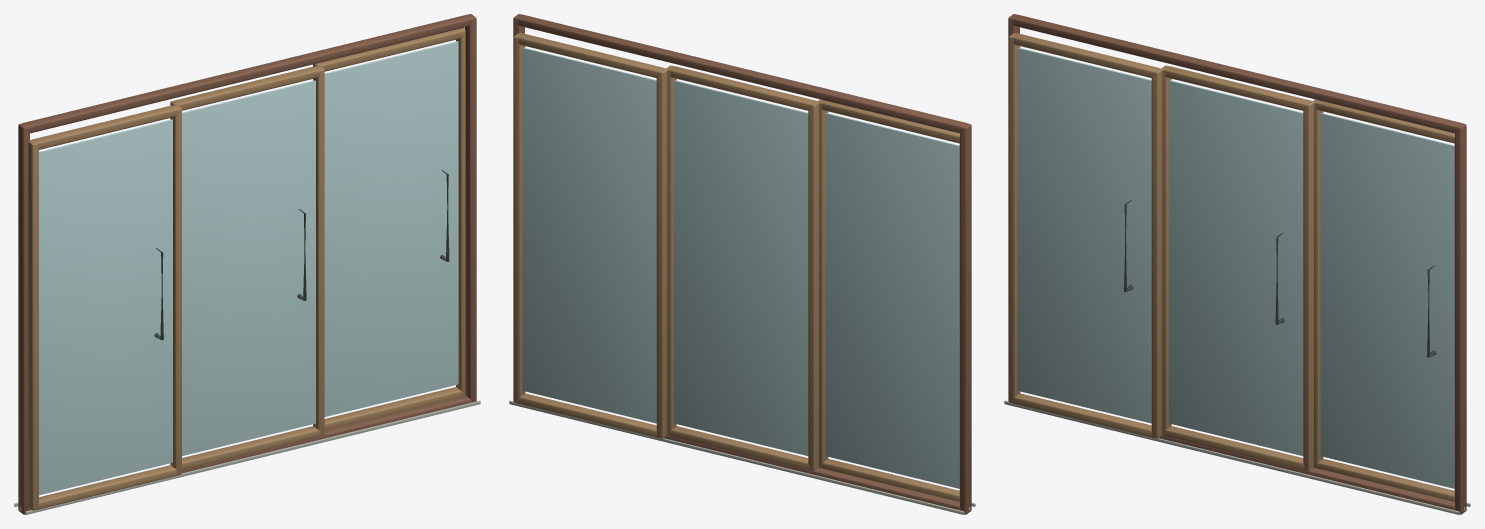
File: door-patio-multislide.glb
3 renders of one model, left to right at view 1: azimuth 30°, elevation 25°; view 2: azimuth 150°, elevation 25°; view 3: azimuth 330°, elevation 25°, orthographic.
Visible parts, largest first — view 1: sliding_leaf_0, sliding_leaf_1, sliding_leaf_2, door-patio-multislide; view 2: sliding_leaf_2, sliding_leaf_1, sliding_leaf_0, door-patio-multislide; view 3: sliding_leaf_0, sliding_leaf_1, sliding_leaf_2, door-patio-multislide.
Part boxes in pixels (x1,y1,x2,y2): sliding_leaf_0: (28, 104, 181, 510); sliding_leaf_1: (170, 65, 324, 469); sliding_leaf_2: (313, 27, 465, 429); door-patio-multislide: (14, 14, 480, 514); sliding_leaf_2: (513, 33, 667, 438); sliding_leaf_1: (666, 65, 818, 470); sliding_leaf_0: (818, 99, 959, 501); door-patio-multislide: (509, 14, 975, 514); sliding_leaf_0: (1008, 33, 1162, 438); sliding_leaf_1: (1161, 65, 1313, 470); sliding_leaf_2: (1313, 99, 1454, 501); door-patio-multislide: (1004, 14, 1470, 514).
Bounding box in the file's own units: 2.7 × 2.2 × 0.22.
